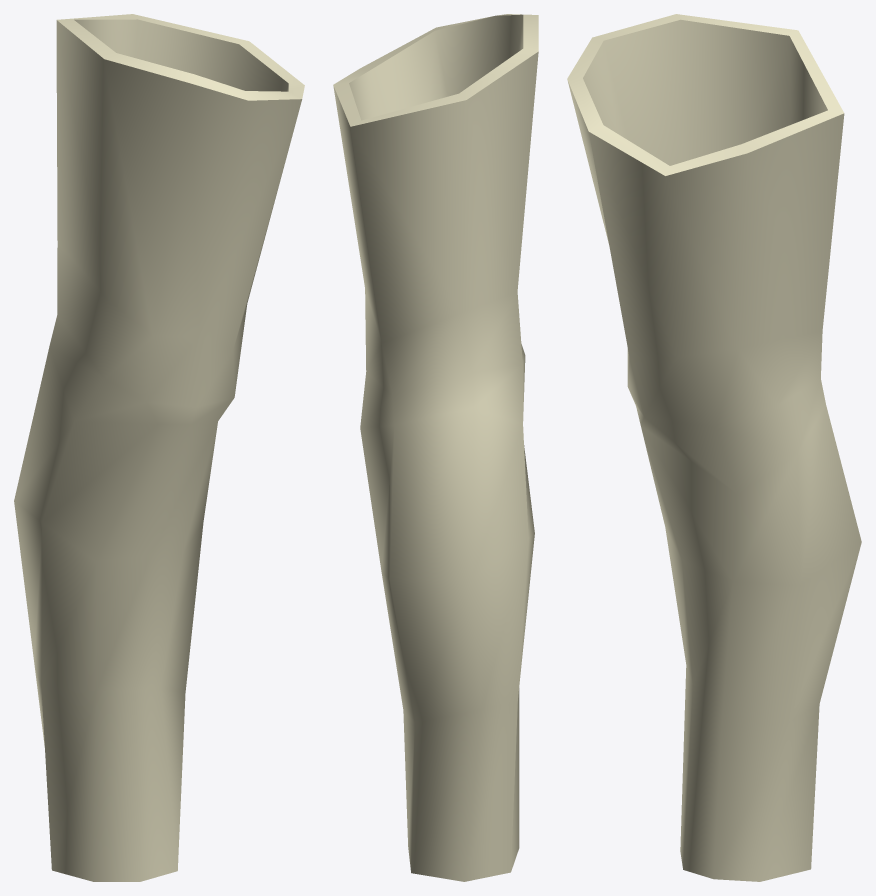
The model's file is Leg_2_R.fbx.
3 renders of one model, left to right at view 1: azimuth 30°, elevation 25°; view 2: azimuth 150°, elevation 25°; view 3: azimuth 270°, elevation 25°, orthographic. The views are drawn at different scales.
Visible parts, largest first — view 1: Leg_2_R; view 2: Leg_2_R; view 3: Leg_2_R.
Boxes of the visible parts, x1=… form: Leg_2_R: x1=14, y1=14, x2=304, y2=881; Leg_2_R: x1=333, y1=14, x2=538, y2=881; Leg_2_R: x1=567, y1=14, x2=861, y2=881.
Size of the model in its own units: 20.91 by 76.03 by 24.59.
